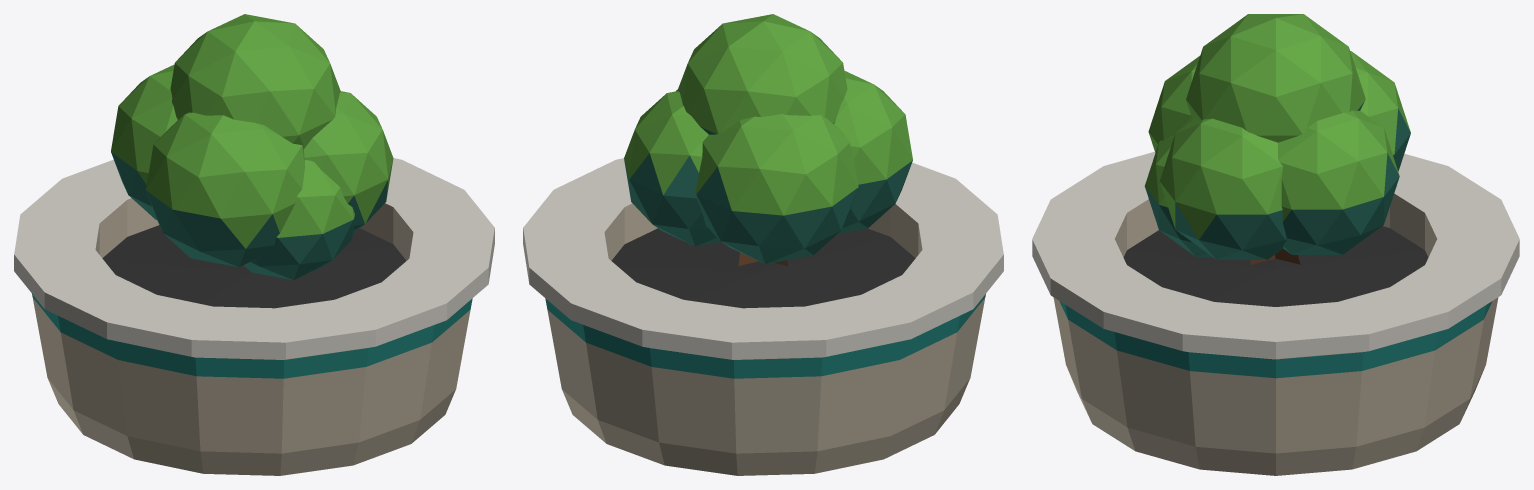
File: yuvarlak_saksi.glb
The picture shows the model from 3 angles, left to right: view 1: azimuth 30°, elevation 25°; view 2: azimuth 150°, elevation 25°; view 3: azimuth 270°, elevation 25°; orthographic projection.
Parts seen in each view (by area): view 1: yuvarlak_saksi; view 2: yuvarlak_saksi; view 3: yuvarlak_saksi.
Part boxes in pixels (x1,y1,x2,y2): yuvarlak_saksi: [14, 14, 494, 475]; yuvarlak_saksi: [523, 14, 1003, 475]; yuvarlak_saksi: [1032, 14, 1519, 475].
Bounding box in the file's own units: 1.3 × 1.1 × 1.3.
